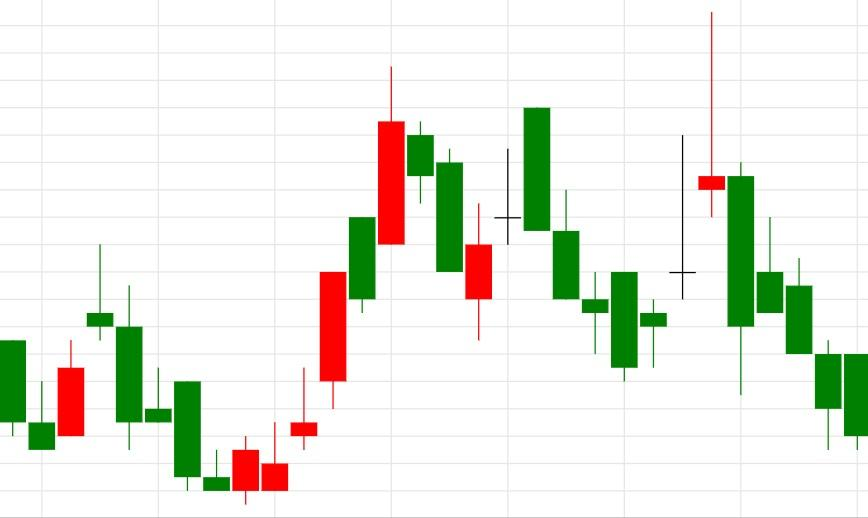three_black_crows_fall: (465, 107, 610, 354)
three_white_soldiers_rise: (86, 243, 347, 505)
